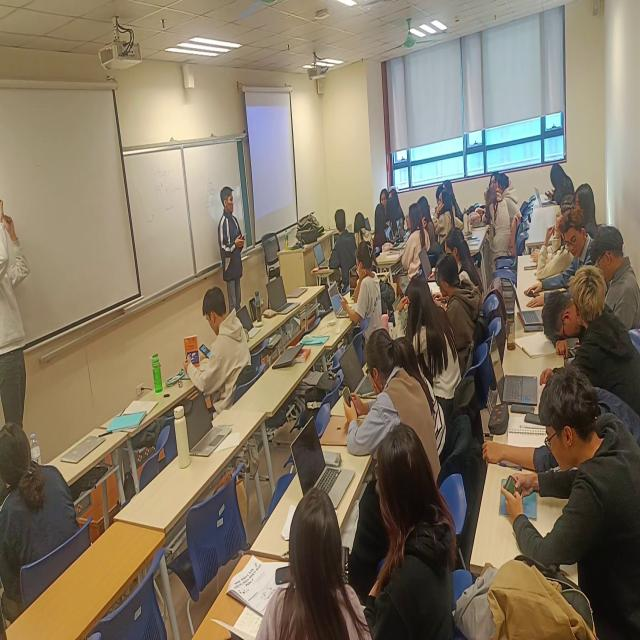raise_head: (5, 416, 83, 623), (402, 204, 429, 280), (437, 191, 455, 243), (421, 193, 438, 246), (444, 179, 454, 195)
sleep: (536, 287, 582, 349)
stand: (1, 155, 34, 444), (218, 183, 249, 310)
using_computer: (435, 251, 479, 354)
using_phone: (500, 362, 640, 640), (335, 325, 443, 466), (179, 282, 252, 402), (398, 272, 464, 401), (592, 223, 640, 325), (338, 240, 384, 344), (545, 163, 575, 206)
